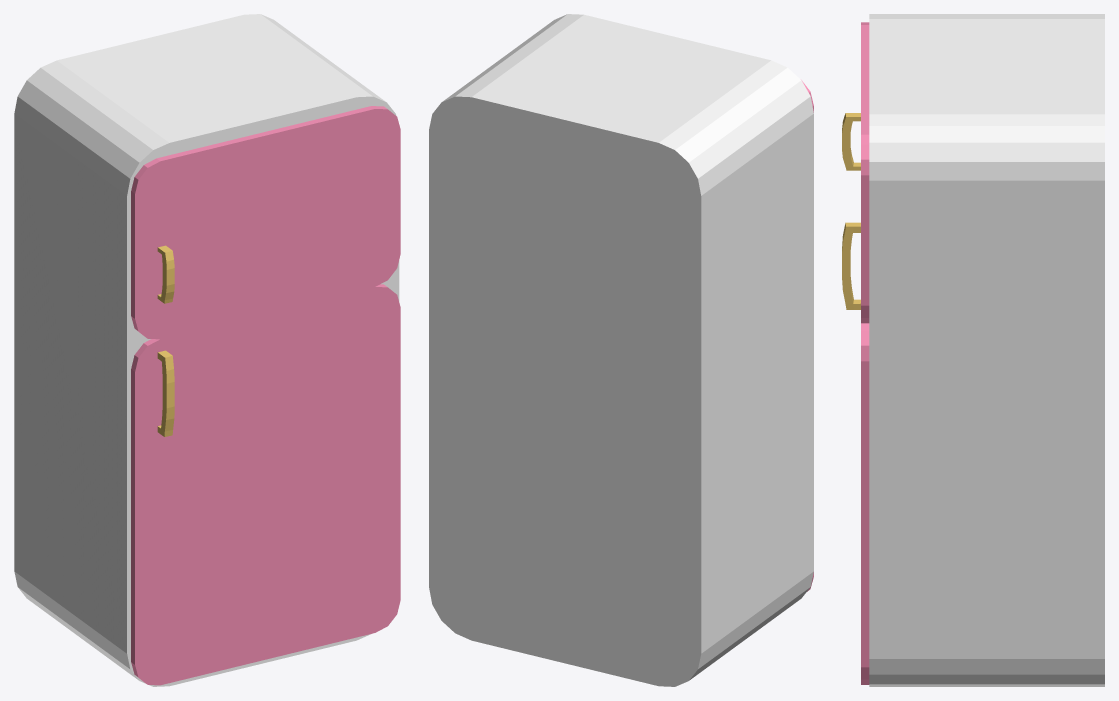
File: Refrigerator_3.fbx
3 views of the same model, side by side, from view 1: azimuth 30°, elevation 25°; view 2: azimuth 150°, elevation 25°; view 3: azimuth 270°, elevation 25° (orthographic). The views are drawn at different scales.
Parts seen in each view (by area): view 1: Refrigerator_3 Door_2, Refrigerator_3, Refrigerator_3 Door_1; view 2: Refrigerator_3; view 3: Refrigerator_3, Refrigerator_3 Door_2, Refrigerator_3 Door_1.
Boxes of the visible parts, <box> form: Refrigerator_3 Door_2: <box>131,284,400,685</box>; Refrigerator_3: <box>14,14,399,686</box>; Refrigerator_3 Door_1: <box>131,106,400,339</box>; Refrigerator_3: <box>429,14,813,686</box>; Refrigerator_3: <box>869,14,1104,686</box>; Refrigerator_3 Door_2: <box>842,222,869,684</box>; Refrigerator_3 Door_1: <box>842,22,869,323</box>.
Size of the model in its own units: 1.09 by 2.07 by 0.8695.
